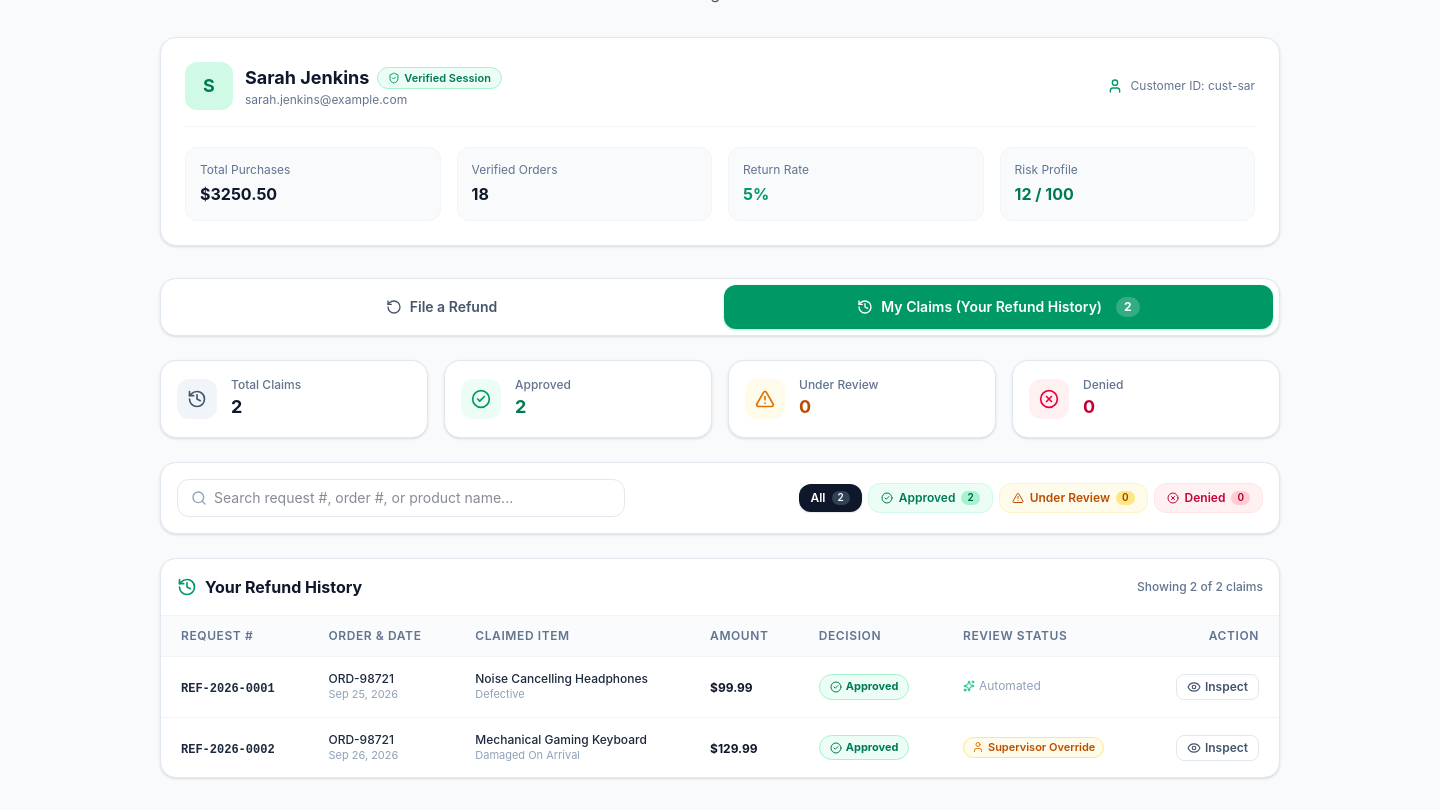
Test: RefundRequestPage Component › opens a claim inspection dialog and closes it with the close button (covers: AC-5)
The image size is (1440, 810).
(page scrolled)
Click the button "Inspect" in the row of "REF-2026-0001" at point(1217, 687), box [1176,674,1259,700]
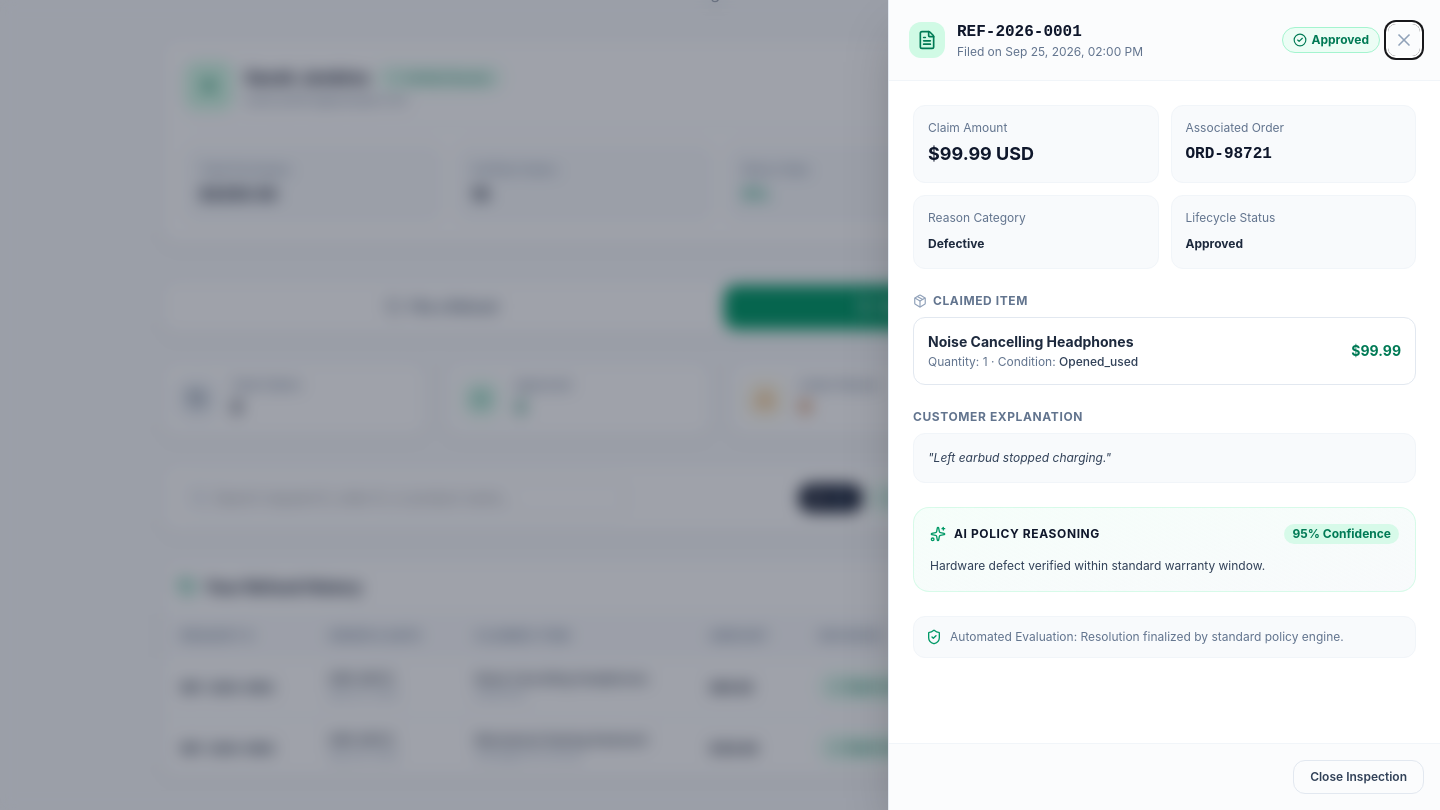
Now the dialog "REF-2026-0001" is shown, box [888,0,1439,809]
Click the button named "Close drawer" at point(1404, 40), box [1388,24,1420,56]
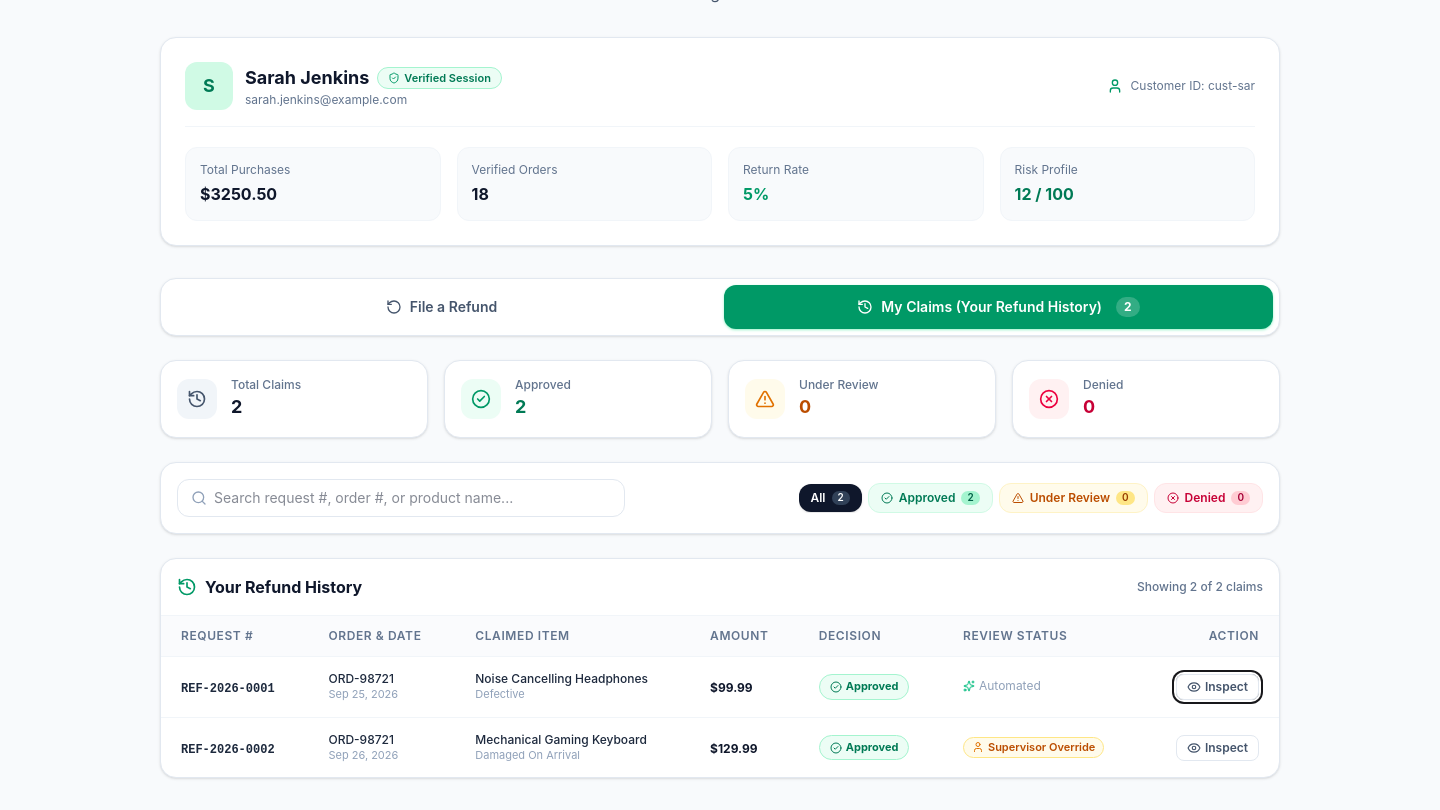
Now the dialog is gone
